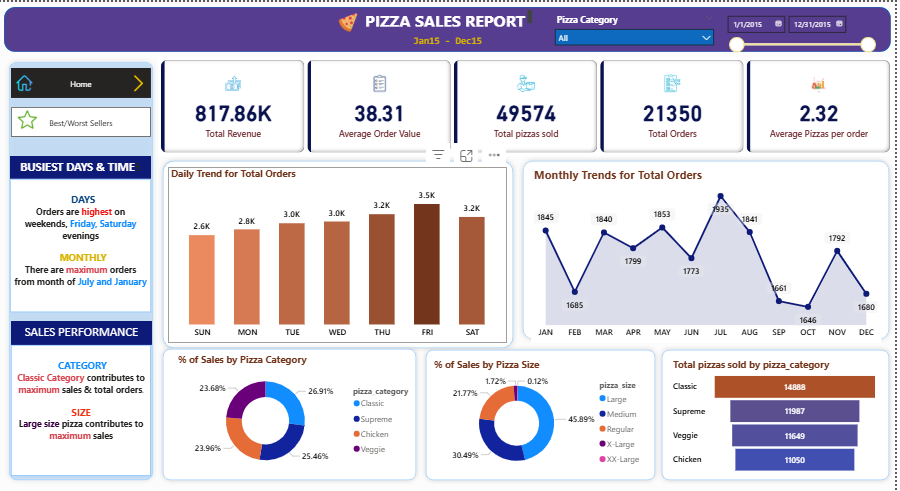

The dashboard page shown, as its layout file describes it:
{"tool":"powerbi","page":{"name":"Home","canvas":[1500,820],"ordinal":0},"visuals":[{"type":"cardVisual","fields":{"Data":["pizza_sales.Total Revenue","pizza_sales.Average Order Value","pizza_sales.Total pizzas sold","pizza_sales.Total Orders","pizza_sales.Average Pizzas per order"]},"box":[267.8,92,1230,165.7],"z":0},{"type":"shape","box":[10,8.4,1484.4,75.3],"z":1000},{"type":"textbox","box":[605.8,8.4,292.9,38.5],"z":2000},{"type":"textbox","box":[681.1,50.2,142.2,30.1],"z":3000},{"type":"shape","box":[10,92,257.7,716.2],"z":4000},{"type":"image","box":[550.6,13.4,70.3,41.8],"z":5000},{"type":"shape","box":[267.8,257.7,602.4,329.7],"z":6000},{"type":"columnChart","title":"Daily Trend for Total Orders","fields":{"Category":["pizza_sales.Order Day"],"Y":["pizza_sales.Total Orders"]},"box":[284.5,276.1,567.3,294.5],"z":7000},{"type":"shape","box":[870.2,257.7,629.2,314.6],"z":8000},{"type":"areaChart","title":"Monthly Trends for Total Orders","fields":{"Y":["pizza_sales.Total Orders"],"Category":["pizza_sales.Order Month"]},"box":[892,276.1,585.7,294.5],"z":9000},{"type":"shape","box":[267.8,572.3,440.1,236],"z":10000},{"type":"shape","box":[1102.8,574,396.6,234.3],"z":11000},{"type":"shape","box":[707.9,574,400,234.3],"z":12000},{"type":"donutChart","title":"% of Sales by Pizza Category","fields":{"Category":["pizza_sales.pizza_category"],"Y":["pizza_sales.Total Revenue"]},"box":[296.2,587.4,411.7,205.8],"z":13000},{"type":"donutChart","title":"% of Sales by Pizza Size","fields":{"Y":["pizza_sales.Total Revenue"],"Category":["pizza_sales.pizza_size"]},"box":[724.6,595.8,366.5,197.5],"z":14000},{"type":"funnel","fields":{"Category":["pizza_sales.pizza_category"],"Y":["pizza_sales.Total pizzas sold"]},"box":[1124.6,595.8,353.1,197.5],"z":15000},{"type":"textbox","box":[20.1,257.7,236,38.5],"z":16000},{"type":"textbox","box":[20.1,296.2,236,222.6],"z":17000},{"type":"textbox","box":[21.8,533.8,236,40.2],"z":18000},{"type":"textbox","box":[21.8,574,234.3,219.2],"z":19000},{"type":"slicer","fields":{"Values":["pizza_sales.pizza_category"]},"box":[922.1,13.4,286.2,66.9],"z":20000},{"type":"slicer","fields":{"Values":["pizza_sales.order_date"]},"box":[1208.2,13.4,269.4,78.7],"z":21000},{"type":"pageNavigator","box":[21.8,110.4,234.3,50.2],"z":22000},{"type":"pageNavigator","box":[21.8,175.7,234.3,50.2],"z":23000},{"type":"image","box":[214.2,117.1,41.8,38.5],"z":24000},{"type":"image","box":[21.8,117.1,45.2,36.8],"z":25000},{"type":"image","box":[25.1,175.7,48.5,41.8],"z":26000}]}

Visuals, with their boxes on the page's 1500x820 design canvas (x1, y1, x2, y2). These are canvas units, not pixel positions in the 900x491 screenshot, which may show the page scaled, cropped or inside an application window:
cardVisual - pizza_sales.Total Revenue x pizza_sales.Average Order Value: 268 92 1498 258
shape: 10 8 1494 84
textbox: 606 8 899 47
textbox: 681 50 823 80
shape: 10 92 268 808
image: 551 13 621 55
shape: 268 258 870 587
"Daily Trend for Total Orders" columnChart: 284 276 852 571
shape: 870 258 1499 572
"Monthly Trends for Total Orders" areaChart: 892 276 1478 571
shape: 268 572 708 808
shape: 1103 574 1499 808
shape: 708 574 1108 808
"% of Sales by Pizza Category" donutChart: 296 587 708 793
"% of Sales by Pizza Size" donutChart: 725 596 1091 793
funnel - pizza_sales.pizza_category x pizza_sales.Total pizzas sold: 1125 596 1478 793
textbox: 20 258 256 296
textbox: 20 296 256 519
textbox: 22 534 258 574
textbox: 22 574 256 793
slicer - pizza_sales.pizza_category: 922 13 1208 80
slicer - pizza_sales.order_date: 1208 13 1478 92
pageNavigator: 22 110 256 161
pageNavigator: 22 176 256 226
image: 214 117 256 156
image: 22 117 67 154
image: 25 176 74 218
